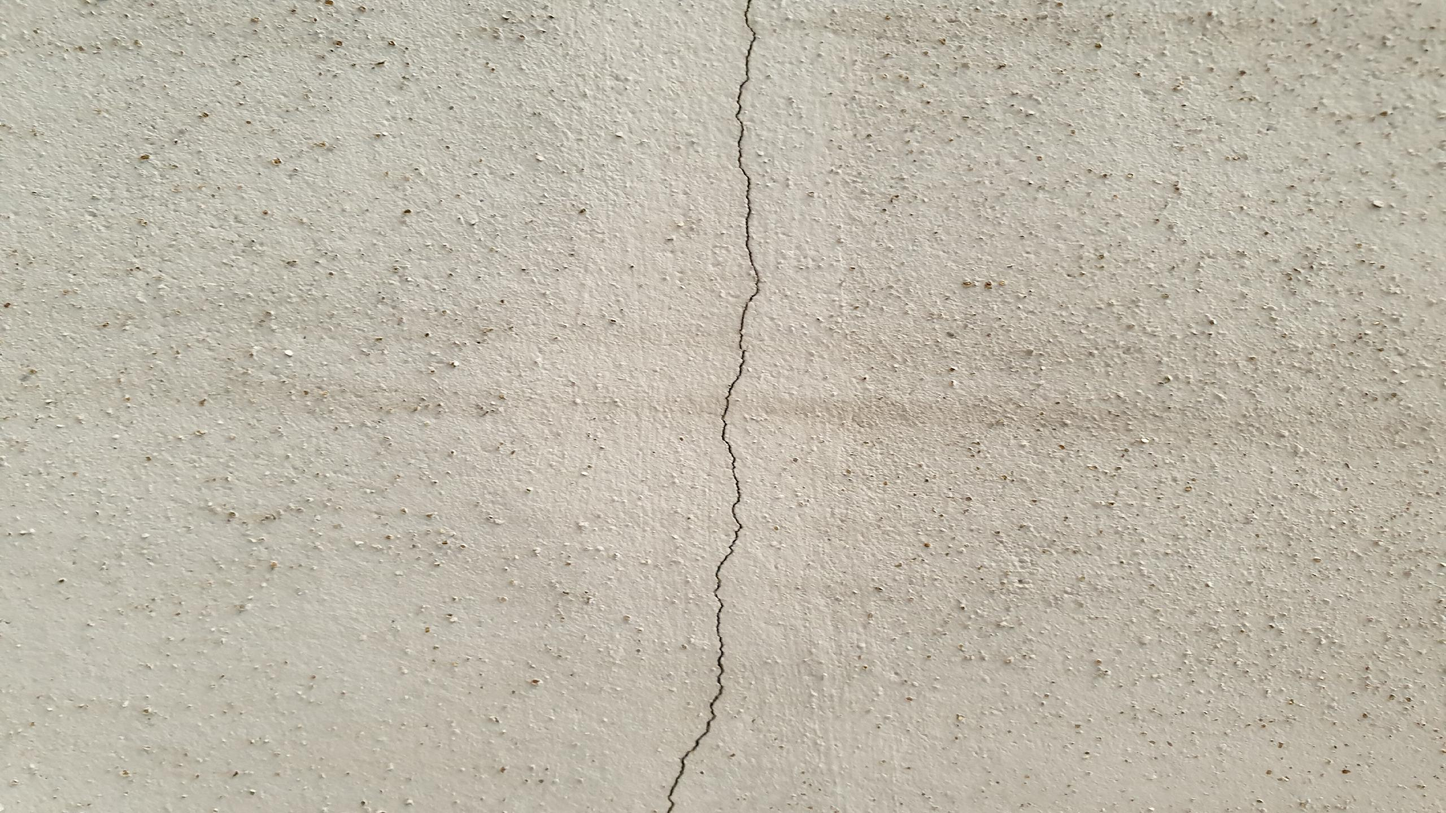crack: (662, 1, 763, 812)
